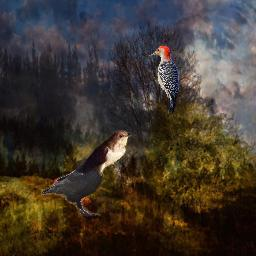Crow: (41, 151, 111, 216)
Cuckoo: (73, 130, 136, 176)
Woodpecker: (148, 45, 179, 114)
